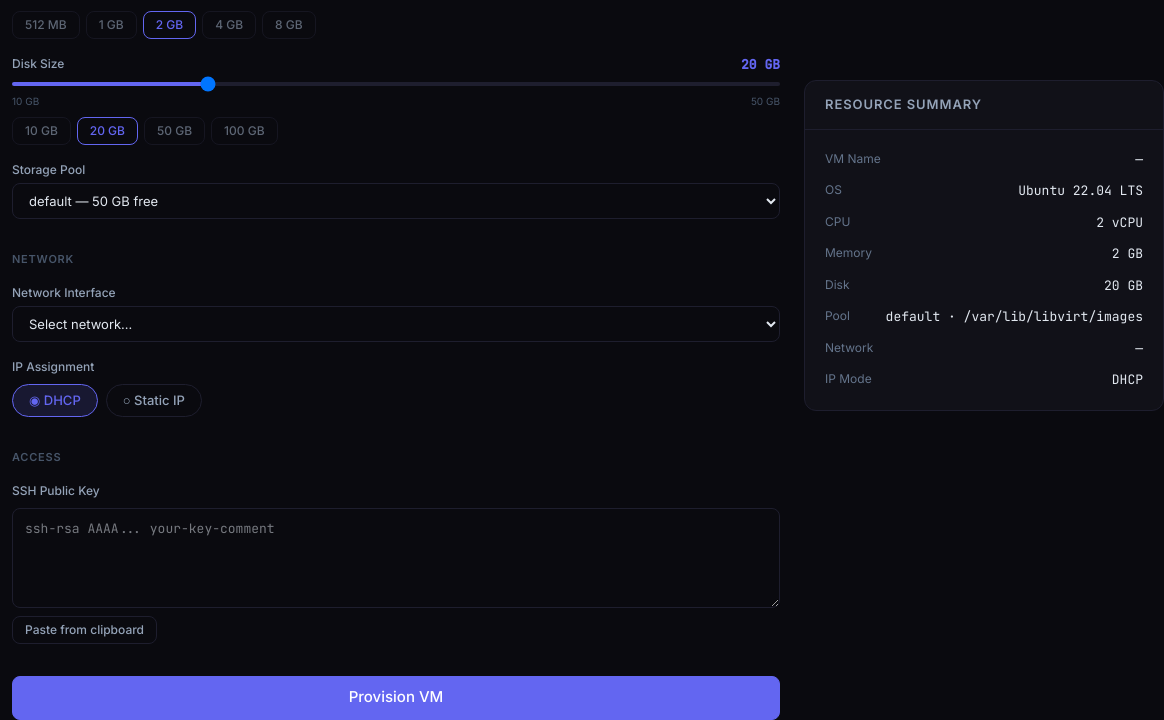
Test: ProvisionForm — VM name validation › shows error and blocks submit when name is empty
The image size is (1164, 720).
(page scrolled)
Click the button "Provision VM" at point(396, 698), box [12, 676, 780, 719]
(page scrolled)
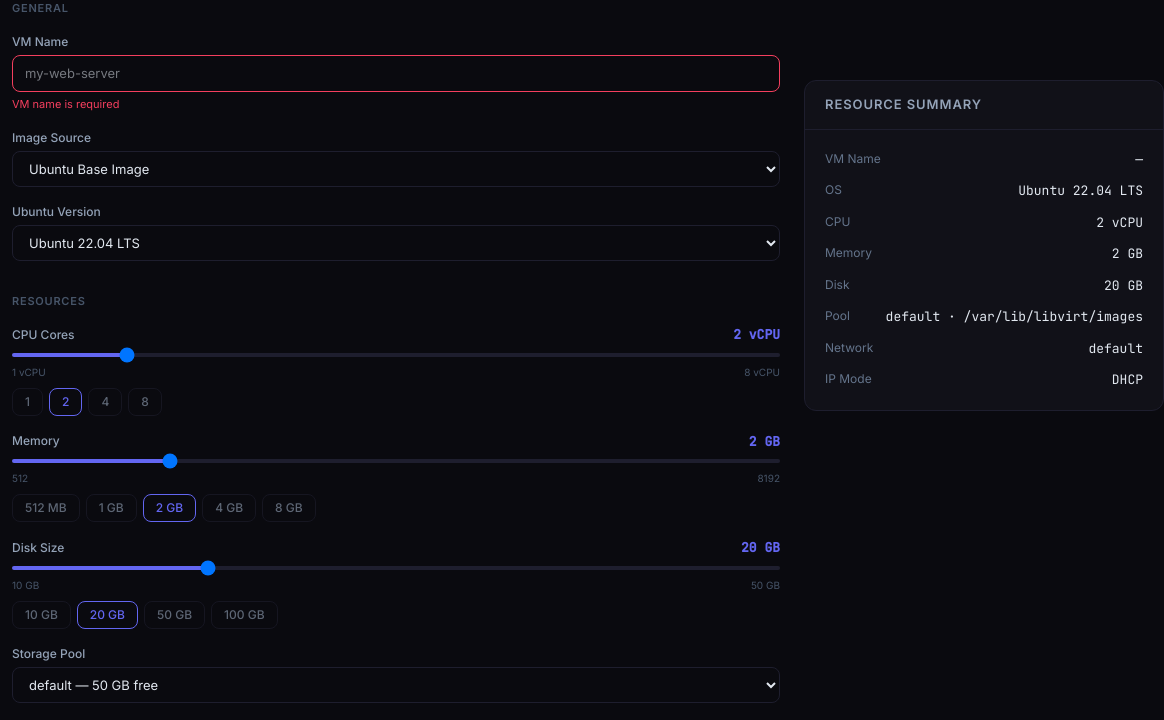
Now the text "VM name is required" is shown, box [12, 97, 119, 111]
